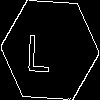L: (25, 25, 53, 72)
